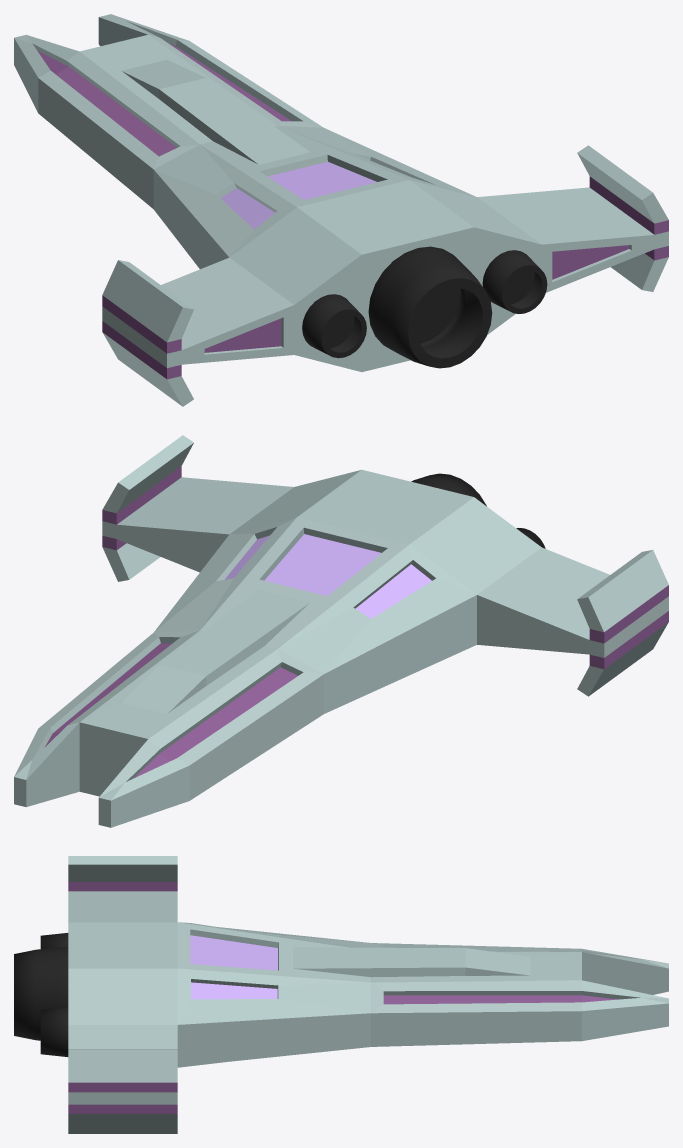
The model's file is Spaceship.fbx.
3 views of the same model, one above another, from view 1: azimuth 30°, elevation 25°; view 2: azimuth 150°, elevation 25°; view 3: azimuth 270°, elevation 25° (orthographic). The views are drawn at different scales.
Visible parts, largest first — view 1: Ship; view 2: Ship; view 3: Ship.
Boxes of the visible parts, x1,y1,x2,y2 form: Ship: [14, 14, 668, 406]; Ship: [14, 435, 668, 827]; Ship: [14, 856, 668, 1133].
Bounding box in the file's own units: 985 × 1318 × 220.
